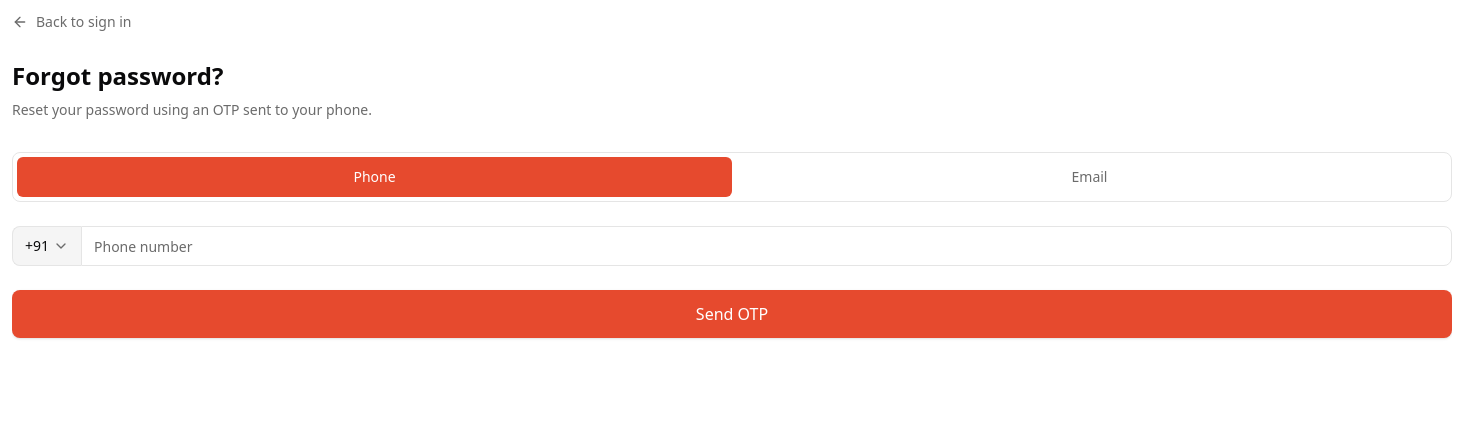
Test case: ForgotPasswordPage account enumeration › blocks with the unavailable message when identifier-status cannot be reached
This screenshot has width=1464, height=427.
Step 1. Click the tab "Email" → coordinates (1090, 177), box [732,157,1447,197]
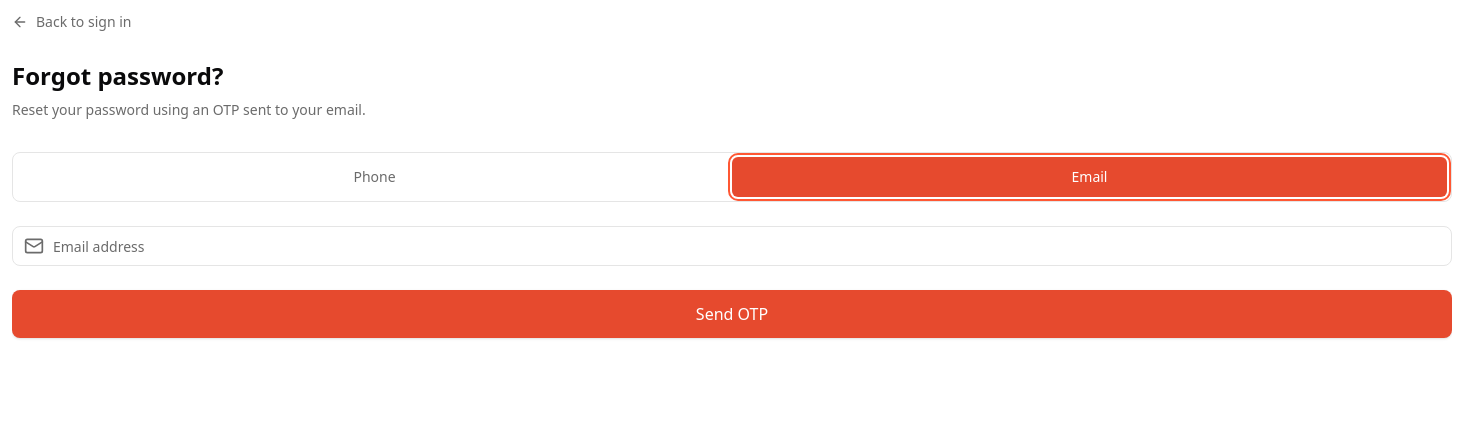
Step 2. Type "someone@example.com" into the field labelled "Email address" → coordinates (732, 246), box [12,226,1452,266]
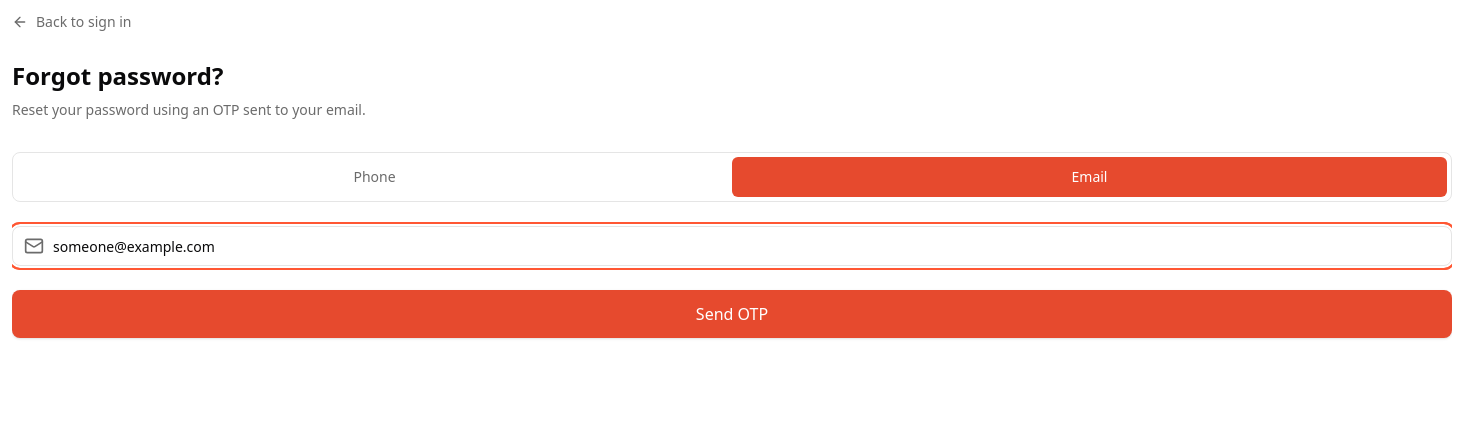
Step 3. Click the button "Send OTP" → coordinates (732, 314), box [12,290,1452,338]
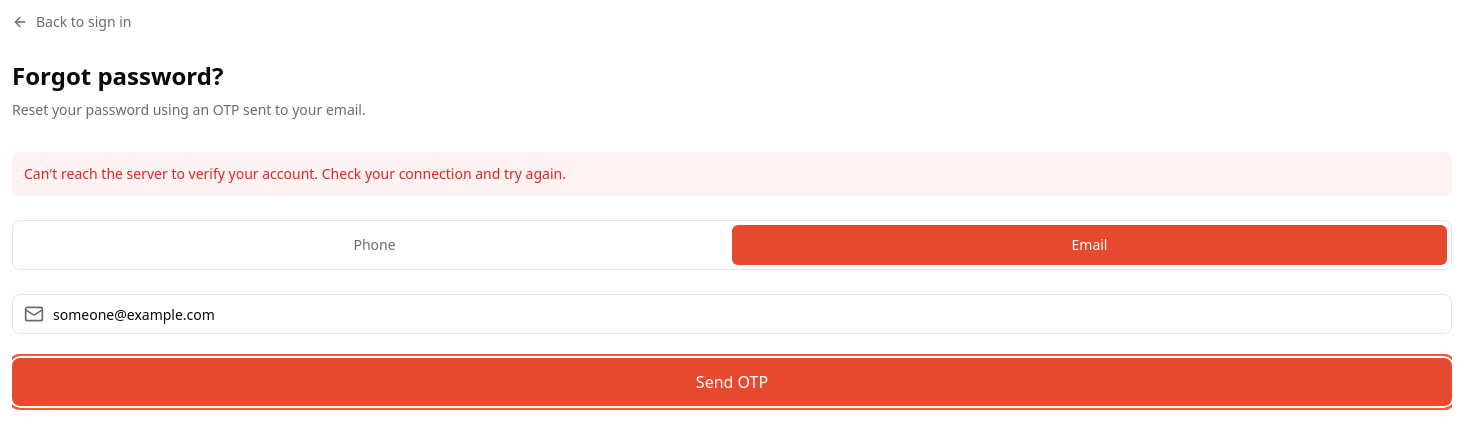
Expected: the text "Can't reach the server to verify your account. Check your connection and try again." is shown, [24,164,566,183]
